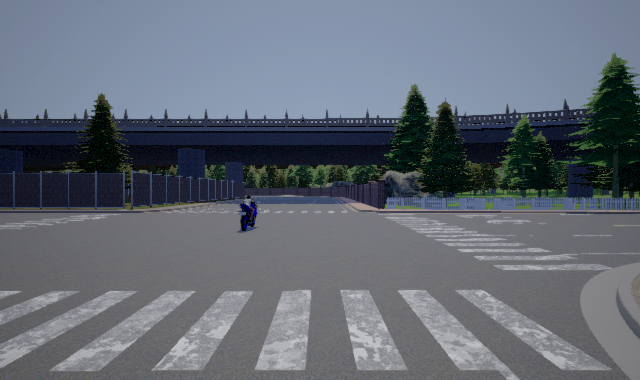motobike: (237, 192, 258, 231)
